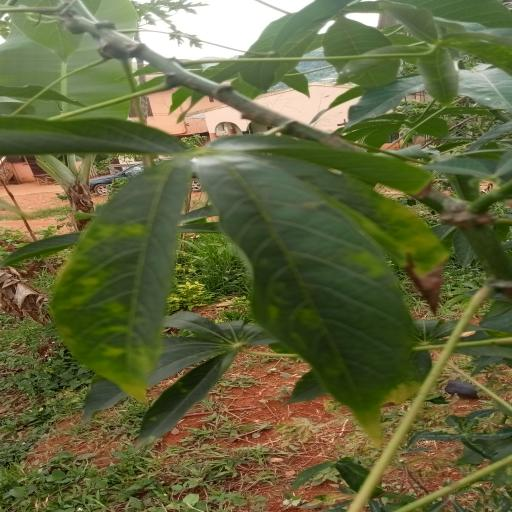Cassava_Root_Rot: (0, 112, 462, 444)
